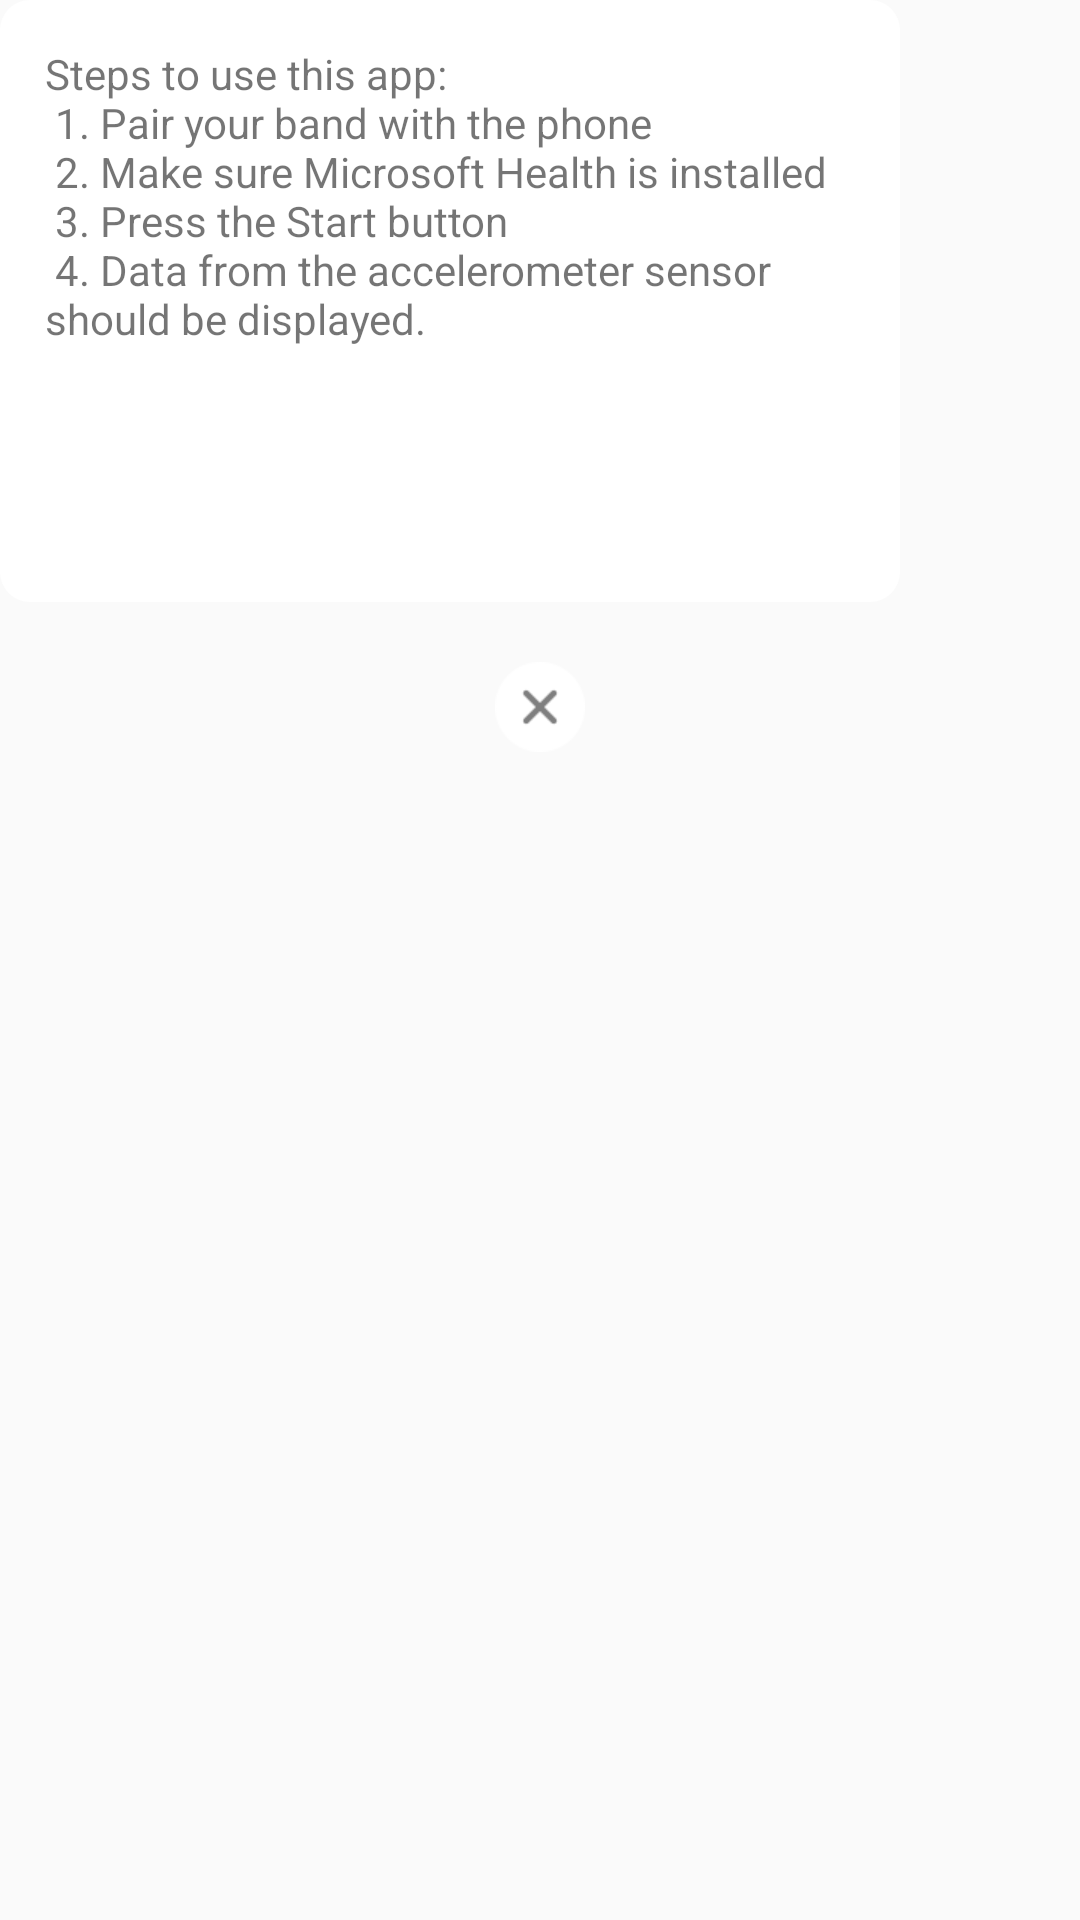

Point at icon controls on the screen. Image size 1080px×1920px, points as (x=x, y=y).
desktop actiivies ad cancle: (x=540, y=707)
